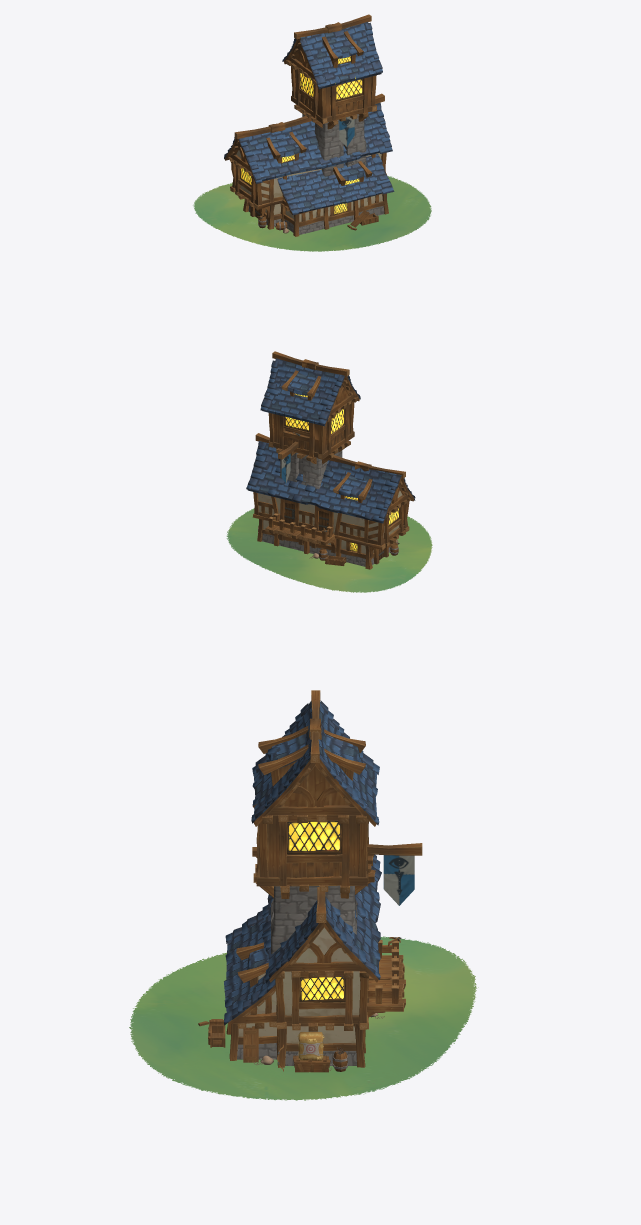
Rendered from watchtower_house.glb.
3 views of the same model, one above another, from view 1: azimuth 30°, elevation 25°; view 2: azimuth 150°, elevation 25°; view 3: azimuth 270°, elevation 25° (orthographic). The views are drawn at different scales.
Parts seen in each view (by area): view 1: Ground Plane002; view 2: Ground Plane002; view 3: Ground Plane002.
Part boxes in pixels (x1,y1,x2,y2): Ground Plane002: [193, 14, 431, 251]; Ground Plane002: [226, 351, 432, 592]; Ground Plane002: [129, 690, 478, 1100].
Bounding box in the file's own units: 4290 × 1752 × 2989.
6 materials, 6 textured.
